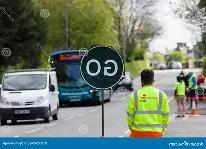Go: (81, 46, 124, 87)
